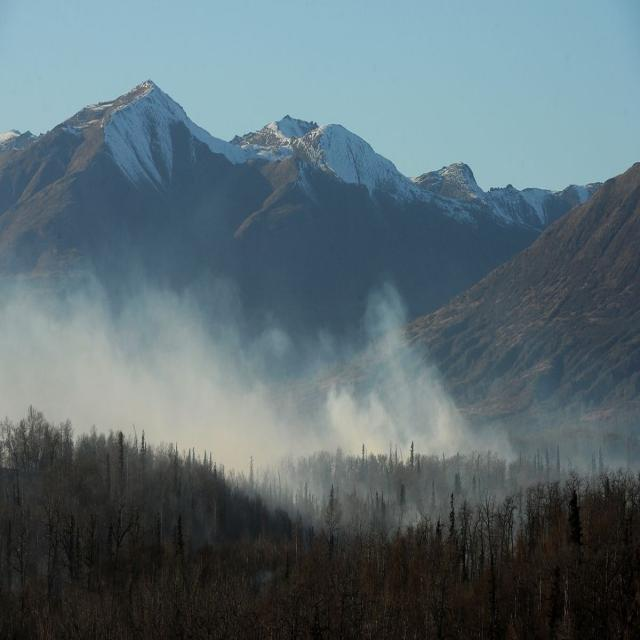Smoke: (0, 251, 525, 469)
